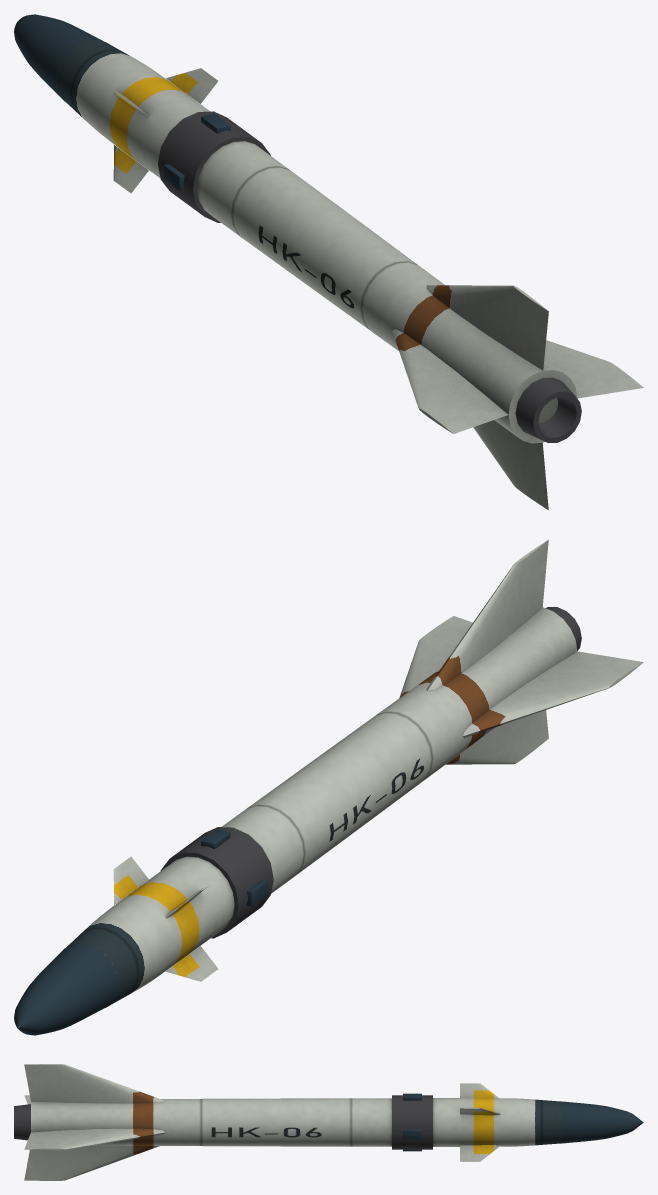
File: AegisInterceptor.fbx
3 renders of one model, top to bottom at view 1: azimuth 30°, elevation 25°; view 2: azimuth 150°, elevation 25°; view 3: azimuth 270°, elevation 25°, orthographic. The views are drawn at different scales.
Parts seen in each view (by area): view 1: Skin, Dark, Glass; view 2: Skin, Glass, Dark; view 3: Skin, Glass, Dark.
Boxes of the visible parts, <box> form: Skin: <box>56,39,643,510</box>; Dark: <box>158,111,581,442</box>; Glass: <box>14,14,230,190</box>; Skin: <box>66,539,643,1007</box>; Glass: <box>14,829,267,1035</box>; Dark: <box>160,607,581,938</box>; Skin: <box>24,1064,562,1180</box>; Glass: <box>403,1093,643,1151</box>; Dark: <box>14,1095,432,1149</box>.
Size of the model in its own units: 18.8 by 18.8 by 92.5.
3 materials, 1 textured.
